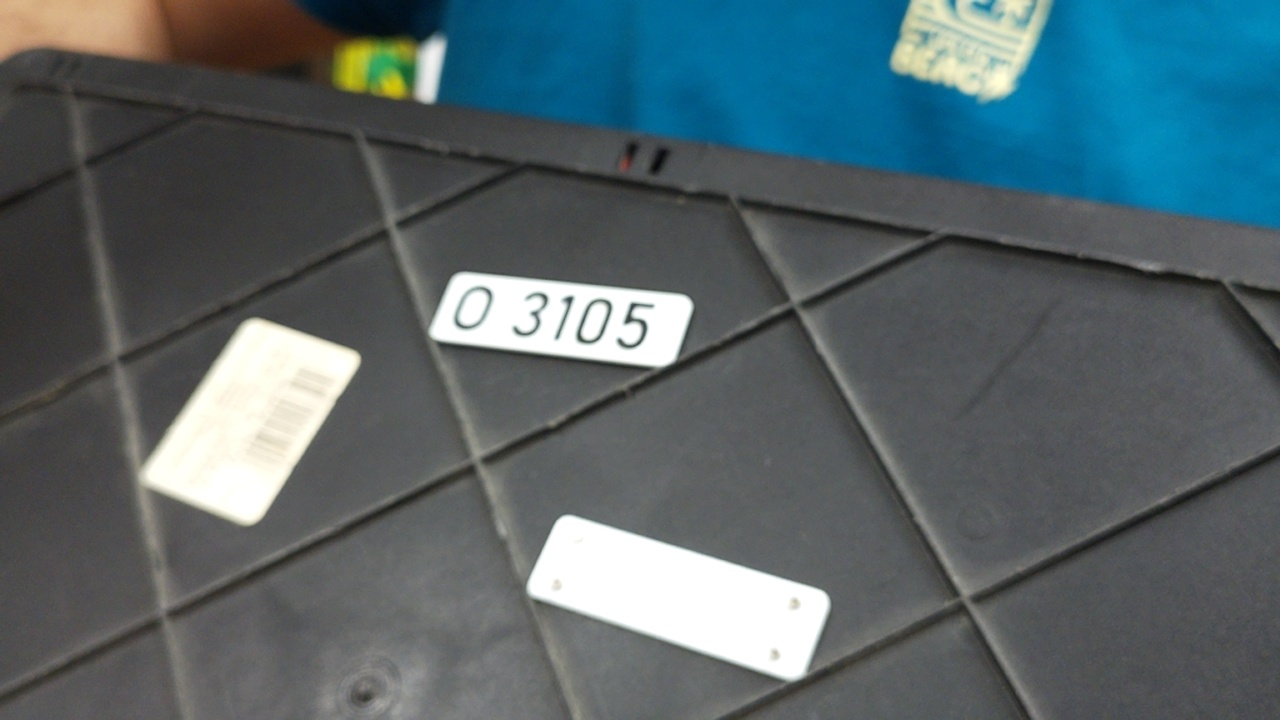license_plate: (427, 267, 697, 371)
